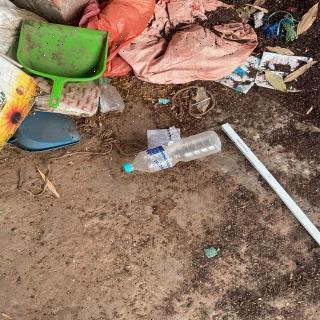Plastic-bottle: (120, 130, 225, 176)
